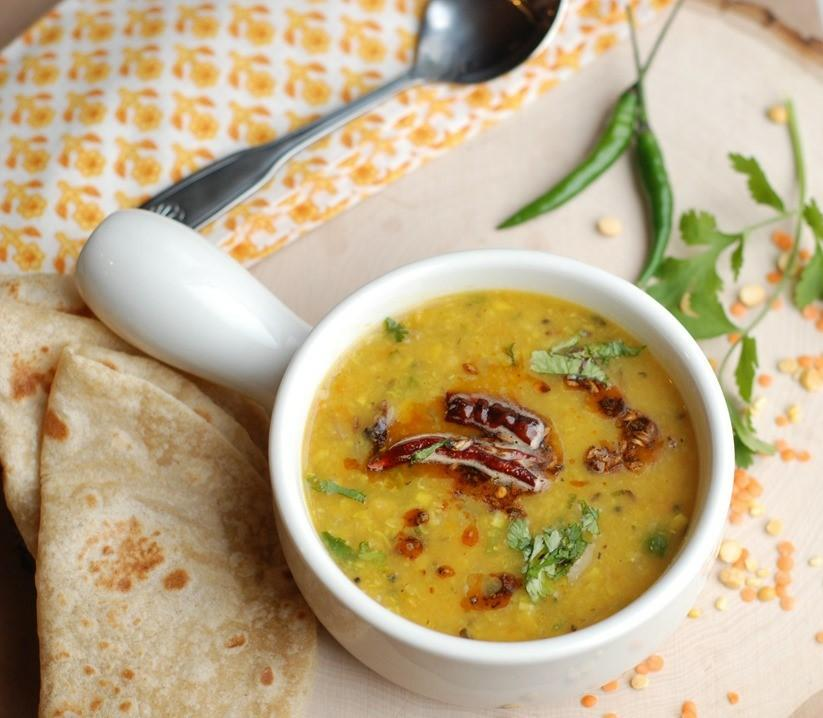Dal: (305, 292, 698, 641)
